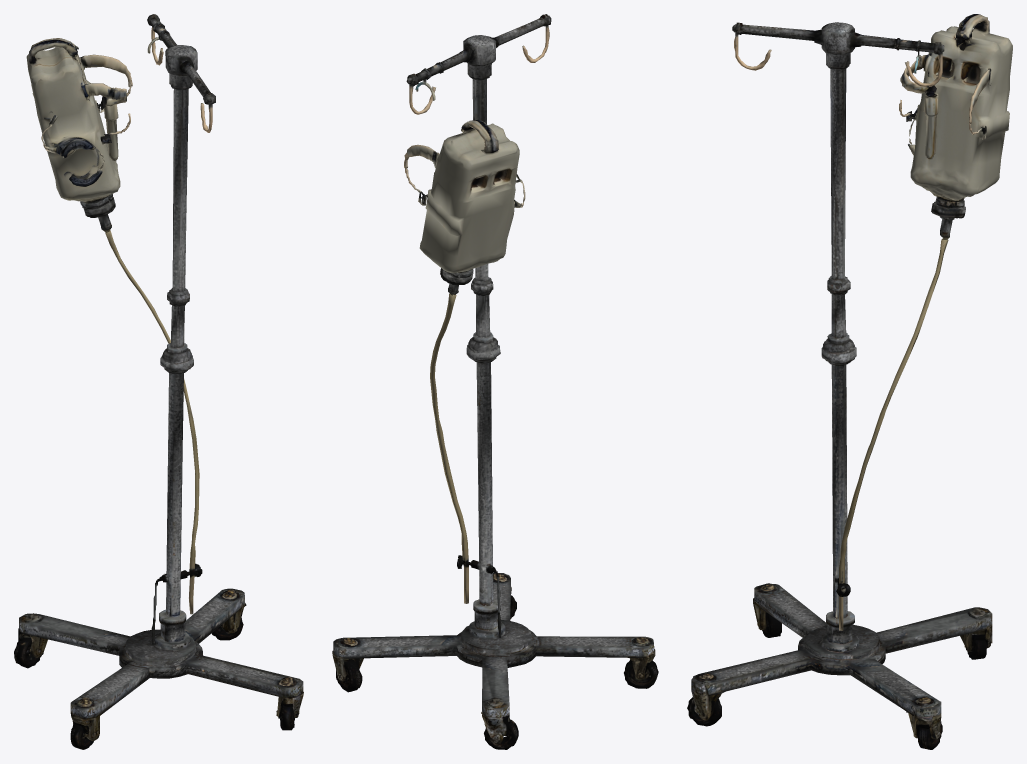
The model's file is prop-iv-stand-v01.glb.
3 renders of one model, left to right at view 1: azimuth 30°, elevation 25°; view 2: azimuth 150°, elevation 25°; view 3: azimuth 270°, elevation 25°, orthographic. The views are drawn at different scales.
Visible parts, largest first — view 1: tripo_node_572fba43-d7e0-44ab-810e-83aac7281a9f; view 2: tripo_node_572fba43-d7e0-44ab-810e-83aac7281a9f; view 3: tripo_node_572fba43-d7e0-44ab-810e-83aac7281a9f.
Part boxes in pixels (x1=…): tripo_node_572fba43-d7e0-44ab-810e-83aac7281a9f: x1=14, y1=14, x2=303, y2=749; tripo_node_572fba43-d7e0-44ab-810e-83aac7281a9f: x1=332, y1=14, x2=658, y2=749; tripo_node_572fba43-d7e0-44ab-810e-83aac7281a9f: x1=687, y1=14, x2=1012, y2=749.
Size of the model in its own units: 0.7494 by 1.85 by 0.8073.
1 material, 1 textured.
